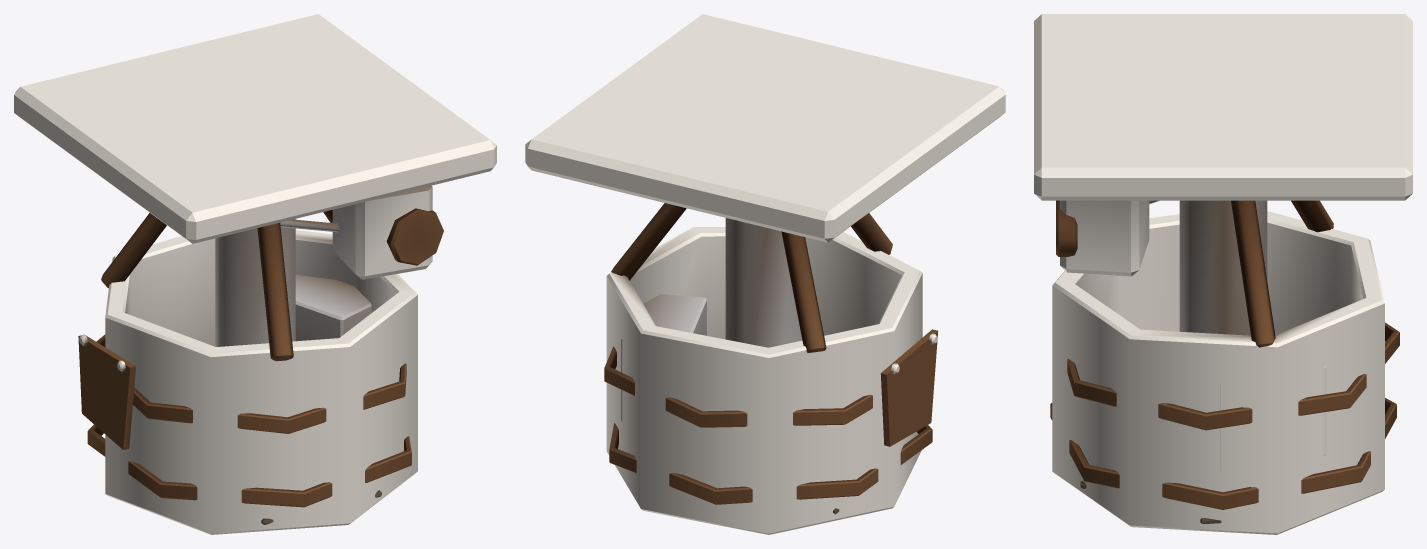
Rendered from R4M_HoverEngine_LOD1.fbx.
The picture shows the model from 3 angles, left to right: view 1: azimuth 30°, elevation 25°; view 2: azimuth 150°, elevation 25°; view 3: azimuth 270°, elevation 25°; orthographic projection. The views are drawn at different scales.
Parts seen in each view (by area): view 1: R4M_HoverEngine_LOD1; view 2: R4M_HoverEngine_LOD1; view 3: R4M_HoverEngine_LOD1.
Boxes of the visible parts, <box> form: R4M_HoverEngine_LOD1: <box>14,14,496,534</box>; R4M_HoverEngine_LOD1: <box>525,14,1005,534</box>; R4M_HoverEngine_LOD1: <box>1034,14,1412,534</box>.
Bounding box in the file's own units: 0.52 × 0.57 × 0.52.
